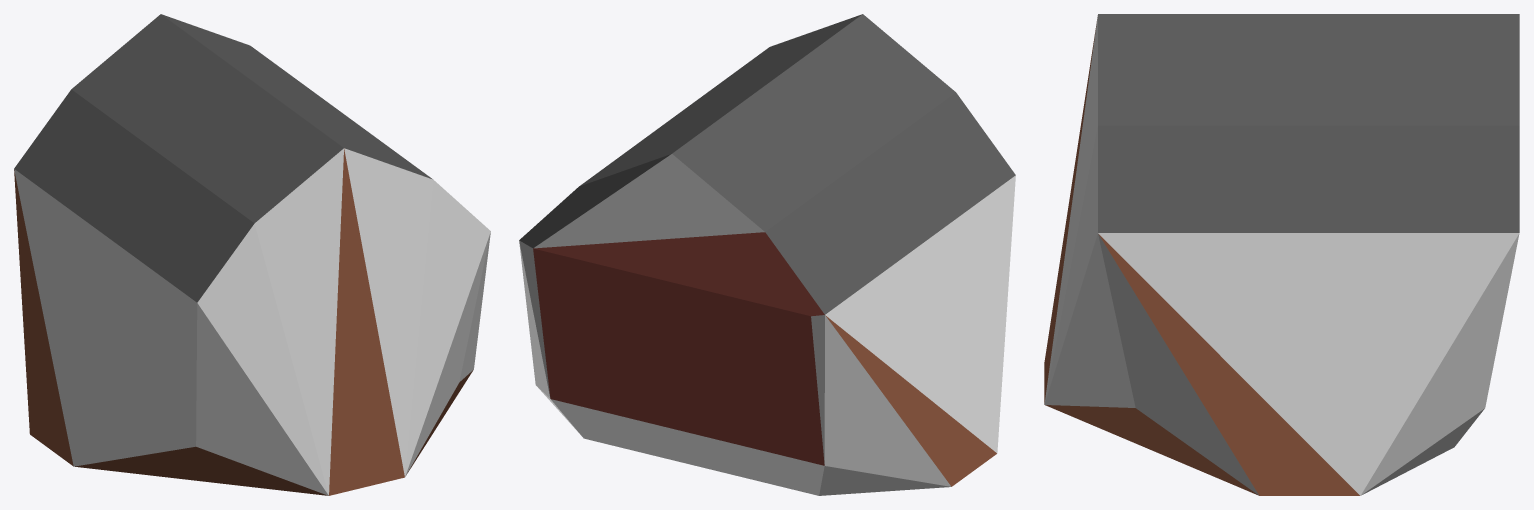
The model's file is ChickenCoop.lod4.glb.
3 renders of one model, left to right at view 1: azimuth 30°, elevation 25°; view 2: azimuth 150°, elevation 25°; view 3: azimuth 270°, elevation 25°, orthographic. The views are drawn at different scales.
Visible parts, largest first — view 1: ChickenCoop; view 2: ChickenCoop; view 3: ChickenCoop.
Boxes of the visible parts, box(x1,y1,x2,y2) form: ChickenCoop: box(14, 14, 490, 495); ChickenCoop: box(519, 14, 1015, 495); ChickenCoop: box(1044, 14, 1519, 495).
Size of the model in its own units: 2.41 by 1.85 by 2.15.
